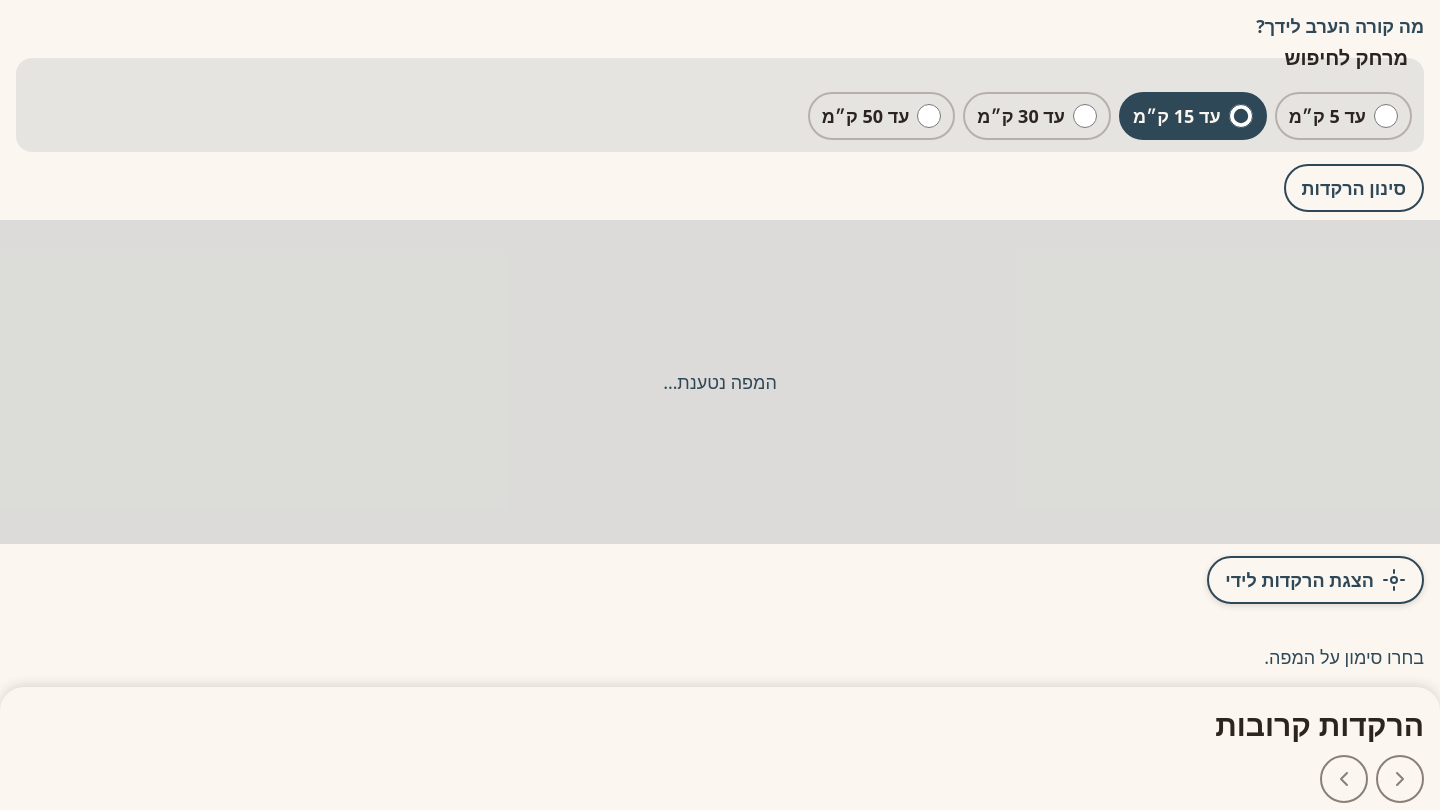
Test case: NearbyDances after a successful locate › applies a later distance change around the located centre
Click the button "הצגת הרקדות לידי".
click(1316, 580)  # box [1207,556,1424,604]
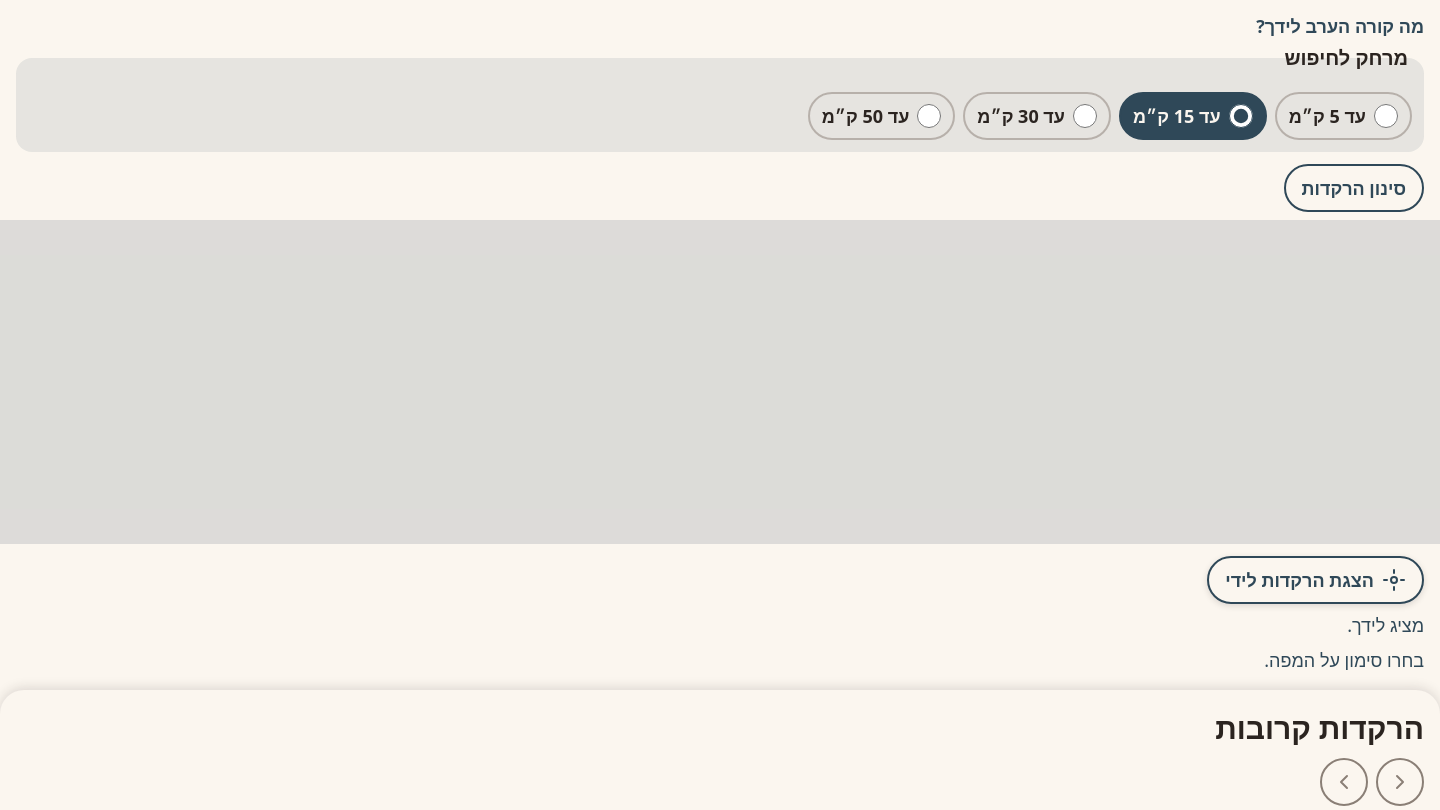
Result: the text "מציג לידך." is shown at [1347,613,1424,637]
Click the radio button labelled "עד 30 ק״מ".
click(1085, 116)  # box [1073,104,1097,128]
(page scrolled)
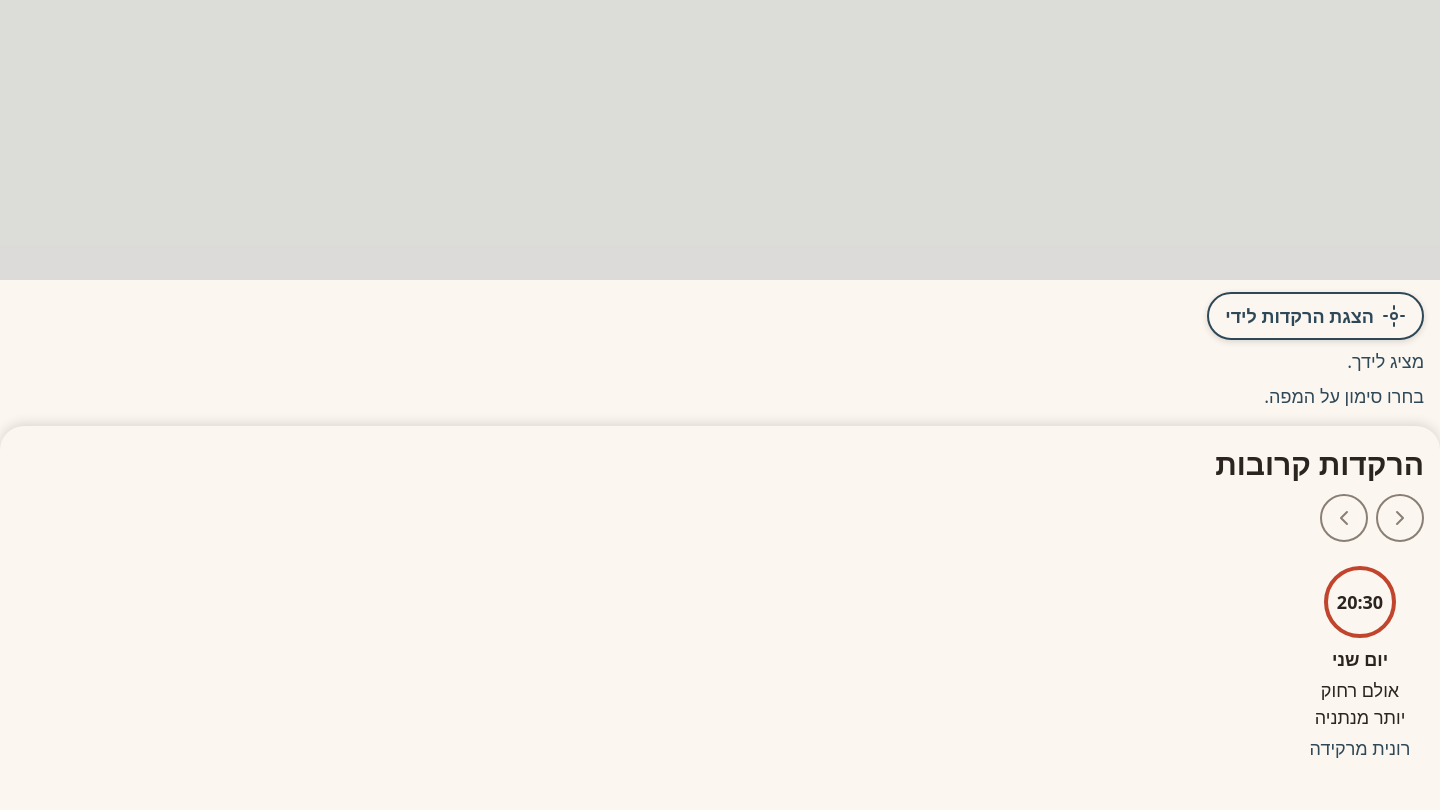
Result: the list named "רשימת ההרקדות הקרובות" shows "אולם רחוק יותר מנתניה" at [1315,678,1405,729]
